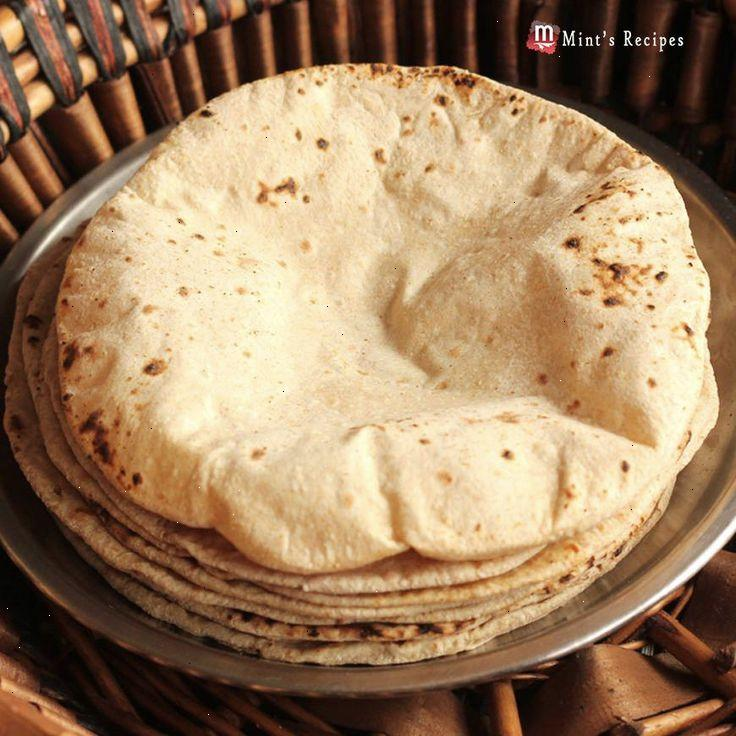roti phulka: (0, 51, 726, 674)
